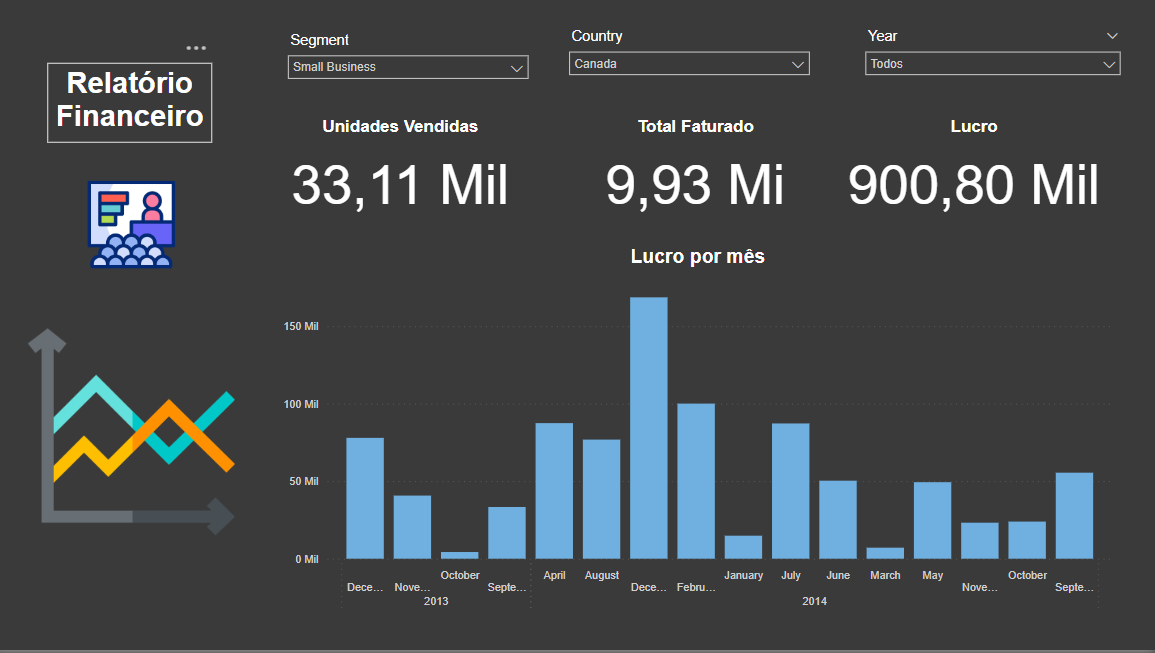

The dashboard page shown, as its layout file describes it:
{"tool":"powerbi","page":{"name":"Página 1","canvas":[1280,720],"ordinal":0},"visuals":[{"type":"slicer","fields":{"Values":["dashboard_tratado.Segment"]},"box":[315.6,37,284,82.3],"z":0},{"type":"slicer","fields":{"Values":["dashboard_tratado.Country"]},"box":[624.4,32.9,284,83.7],"z":1000},{"type":"slicer","fields":{"Values":["dashboard_tratado.Year"]},"box":[949.6,32.9,300.5,86.4],"z":2000},{"type":"card","title":"Unidades Vendidas","fields":{"Values":["Sum(dashboard_tratado.Units Sold)"]},"box":[299.1,134.5,300.5,119.4],"z":3000},{"type":"card","title":"Total Faturado","fields":{"Values":["Sum(dashboard_tratado.Gross Sales)"]},"box":[624.4,134.5,297.8,119.4],"z":4000},{"type":"card","title":"Lucro","fields":{"Values":["Sum(dashboard_tratado.Profit)"]},"box":[922.1,134.5,314.2,119.4],"z":5000},{"type":"clusteredColumnChart","title":"Lucro por mês","fields":{"Category":["dashboard_tratado.Year","dashboard_tratado.Month Name","dashboard_tratado.Month Number"],"Y":["Sum(dashboard_tratado.Profit)"]},"box":[315.6,275.8,920.8,410.3],"z":6000},{"type":"image","box":[35.7,200.3,237.4,105.7],"z":6001},{"type":"image","box":[36,276,237,410],"z":6002},{"type":"textbox","box":[61.7,75.5,181.1,87.8],"z":6003}]}

Visuals, with their boxes in screenshot pixels (x1, y1, x2, y2), scaled from the page's 1280x720 canvas onto the 1155x653 screenshot:
slicer - dashboard_tratado.Segment: l=285, t=34, r=541, b=108
slicer - dashboard_tratado.Country: l=563, t=30, r=820, b=106
slicer - dashboard_tratado.Year: l=857, t=30, r=1128, b=108
"Unidades Vendidas" card: l=270, t=122, r=541, b=230
"Total Faturado" card: l=563, t=122, r=832, b=230
"Lucro" card: l=832, t=122, r=1116, b=230
"Lucro por mês" clusteredColumnChart: l=285, t=250, r=1116, b=622
image: l=32, t=182, r=246, b=278
image: l=32, t=250, r=246, b=622
textbox: l=56, t=68, r=219, b=148
